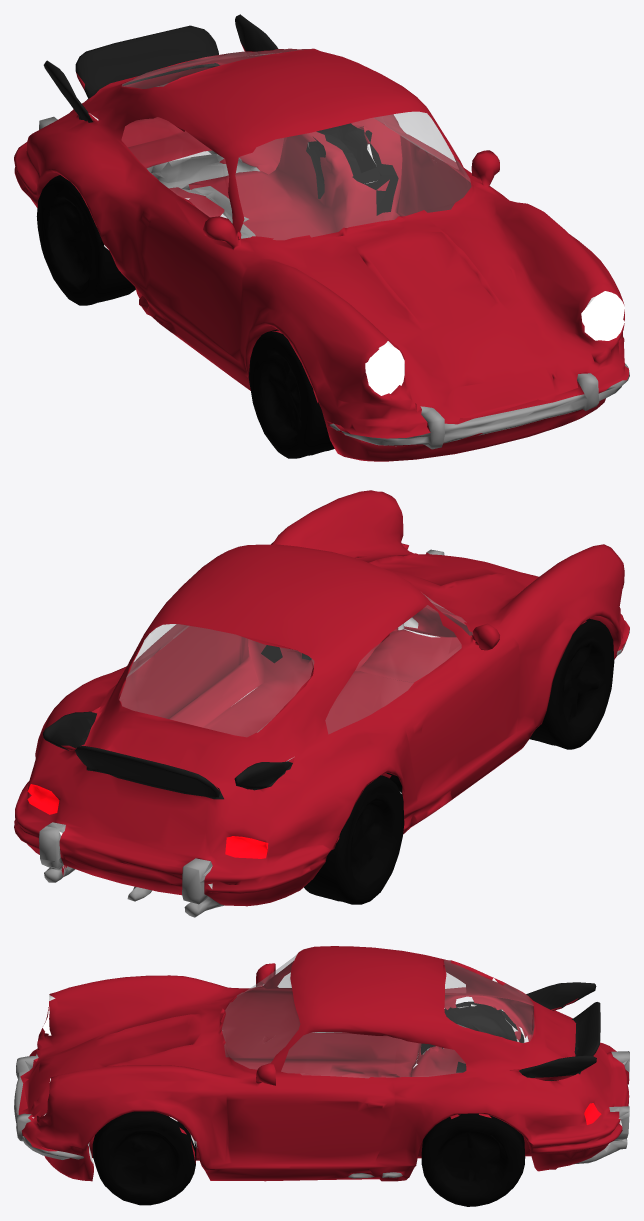
Rendered from car_model.glb.
3 views of the same model, one above another, from view 1: azimuth 30°, elevation 25°; view 2: azimuth 150°, elevation 25°; view 3: azimuth 270°, elevation 25° (orthographic). The views are drawn at different scales.
Visible parts, largest first — view 1: body, windows_1, wheels, metal_elements, spoiler, frontligts; view 2: body, windows_1, wheels, spoiler, metal_elements; view 3: body, wheels, windows_1, spoiler, metal_elements.
Boxes of the visible parts, <box> form: body: <box>14,48,628,461</box>; windows_1: <box>122,49,467,240</box>; wheels: <box>36,123,398,458</box>; metal_elements: <box>39,116,629,449</box>; spoiler: <box>43,14,278,121</box>; frontligts: <box>365,293,624,395</box>; body: <box>14,490,629,906</box>; windows_1: <box>119,594,468,736</box>; wheels: <box>261,618,614,904</box>; spoiler: <box>43,706,294,797</box>; metal_elements: <box>39,549,629,917</box>; body: <box>19,946,629,1181</box>; wheels: <box>92,1001,525,1206</box>; windows_1: <box>219,954,534,1077</box>; spoiler: <box>510,982,600,1080</box>; metal_elements: <box>14,1051,629,1164</box>.
Bounding box in the file's own units: 2.72 × 1.96 × 6.
